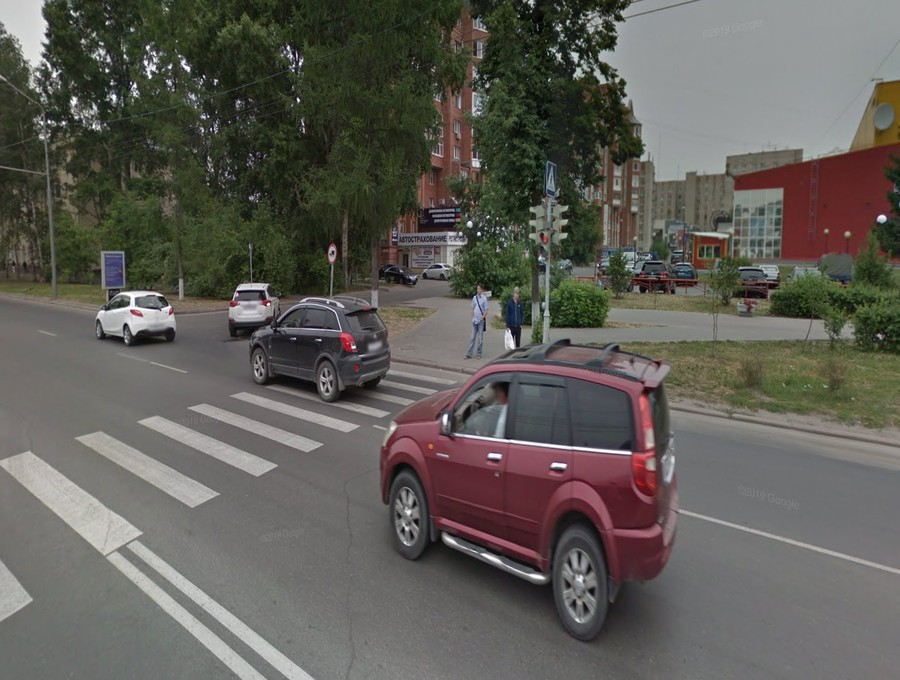Traffic Light-red: (536, 228, 554, 260)
